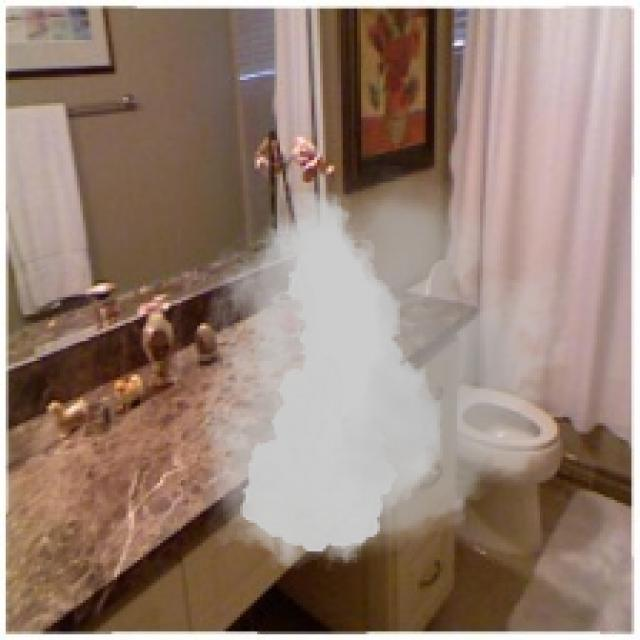smoke: (172, 166, 592, 580)
